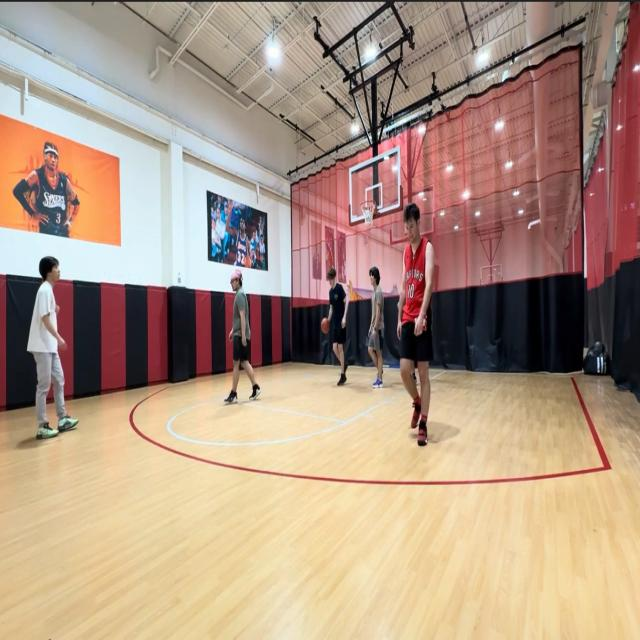Basketball: (320, 317, 330, 333)
Basketball Rim: (360, 199, 376, 226)
